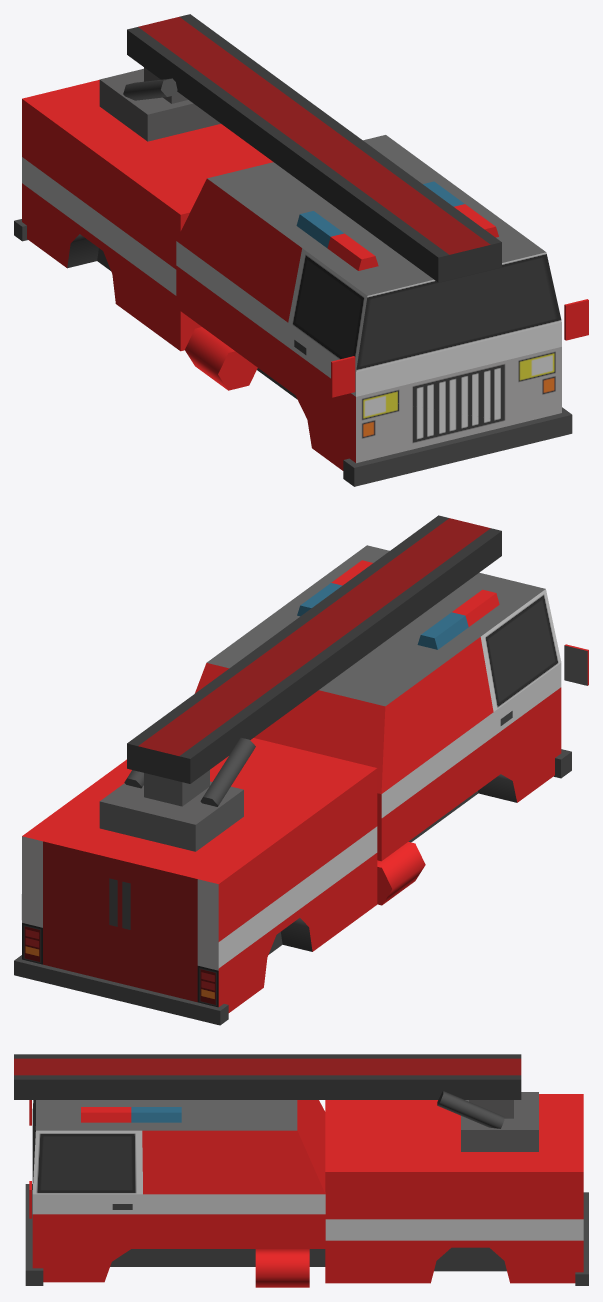
Rendered from car 16.FBX.
3 renders of one model, top to bottom at view 1: azimuth 30°, elevation 25°; view 2: azimuth 150°, elevation 25°; view 3: azimuth 270°, elevation 25°, orthographic. The views are drawn at different scales.
Parts seen in each view (by area): view 1: Box322; view 2: Box322; view 3: Box322.
Part boxes in pixels (bbox=[...]): Box322: bbox=[14, 14, 588, 486]; Box322: bbox=[14, 515, 588, 1025]; Box322: bbox=[14, 1054, 588, 1287].
Size of the model in its own units: 4.01 by 3.38 by 9.55.
1 material, 1 textured.
